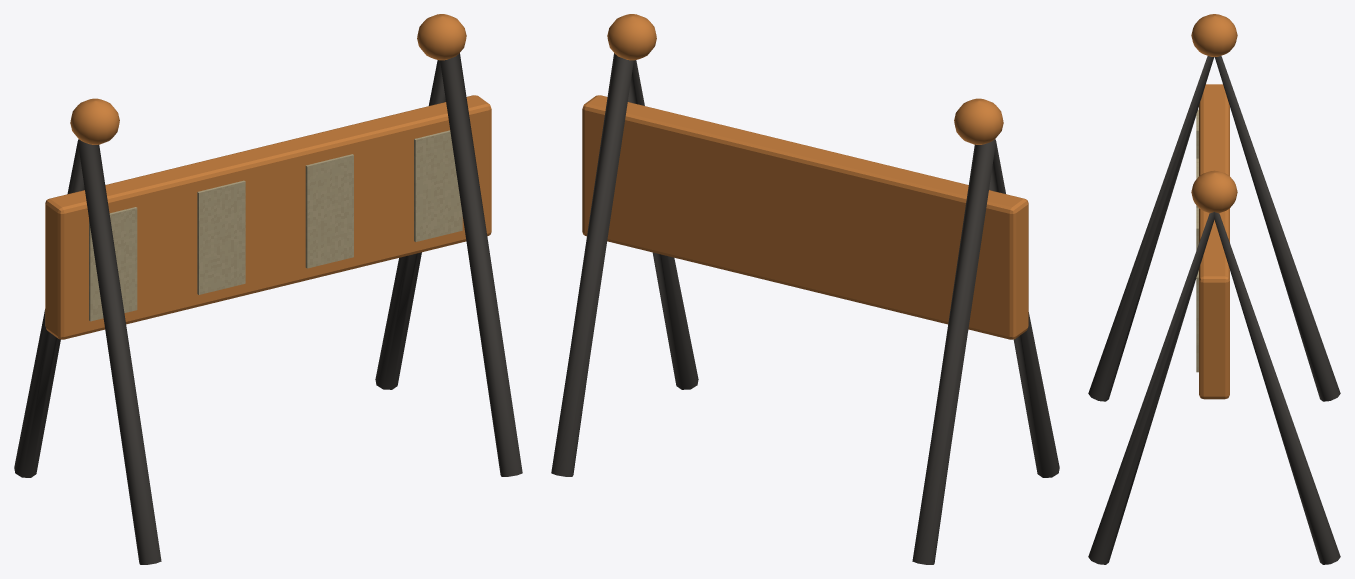
File: MS_SP_09_StreetBarricade.glb
The picture shows the model from 3 angles, left to right: view 1: azimuth 30°, elevation 25°; view 2: azimuth 150°, elevation 25°; view 3: azimuth 270°, elevation 25°; orthographic projection. The views are drawn at different scales.
Parts seen in each view (by area): view 1: AmberCap, AFrame, Reflector.001; view 2: AmberCap, AFrame; view 3: AFrame, AmberCap, Reflector.001.
Part boxes in pixels (x1,y1,x2,y2): AmberCap: [45, 14, 491, 339]; AFrame: [14, 53, 522, 564]; Reflector.001: [89, 130, 462, 321]; AmberCap: [582, 14, 1028, 339]; AFrame: [551, 53, 1059, 564]; AFrame: [1088, 56, 1340, 564]; AmberCap: [1191, 14, 1237, 399]; Reflector.001: [1196, 109, 1198, 372].
Size of the model in its own units: 1.2 by 1.1 by 0.6536.
3 materials, 1 textured.
